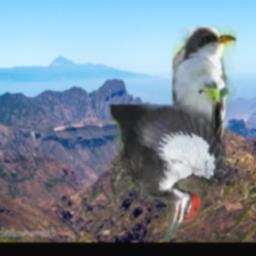Cuckoo: (172, 25, 236, 166)
Woodpecker: (110, 106, 226, 241)
